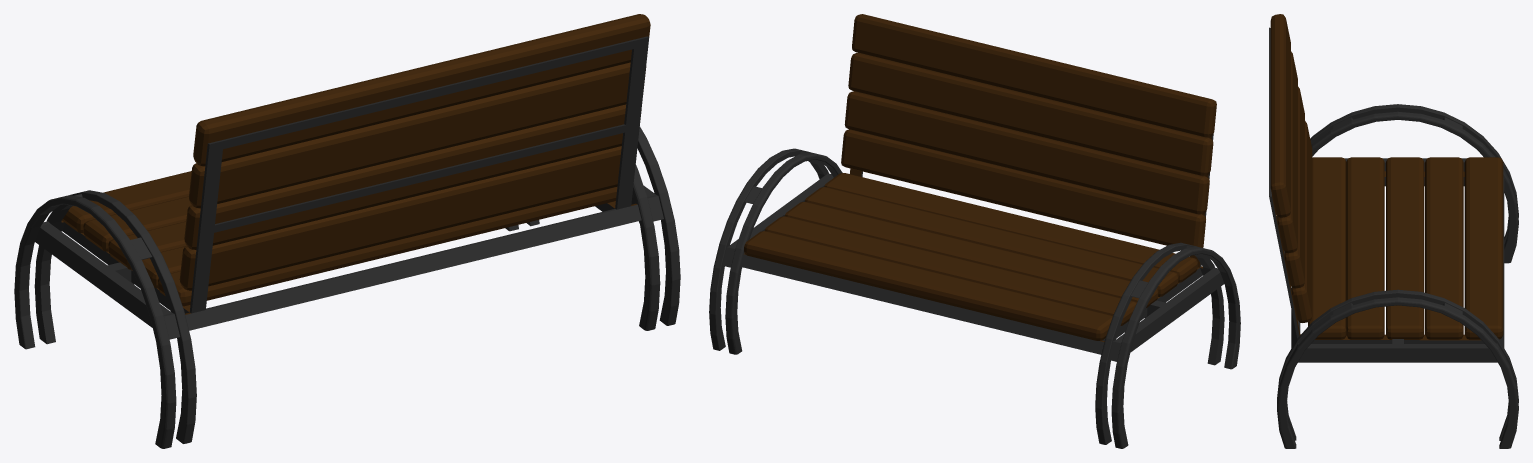
File: park_bench (2).fbx
3 views of the same model, side by side, from view 1: azimuth 30°, elevation 25°; view 2: azimuth 150°, elevation 25°; view 3: azimuth 270°, elevation 25° (orthographic). The views are drawn at different scales.
Visible parts, largest first — view 1: bench; view 2: bench; view 3: bench.
Part boxes in pixels (left/top/right/bottom): bench: left=14, top=14, right=680, bottom=448; bench: left=709, top=14, right=1240, bottom=448; bench: left=1269, top=14, right=1518, bottom=448.
Size of the model in its own units: 419 by 250 by 224.
